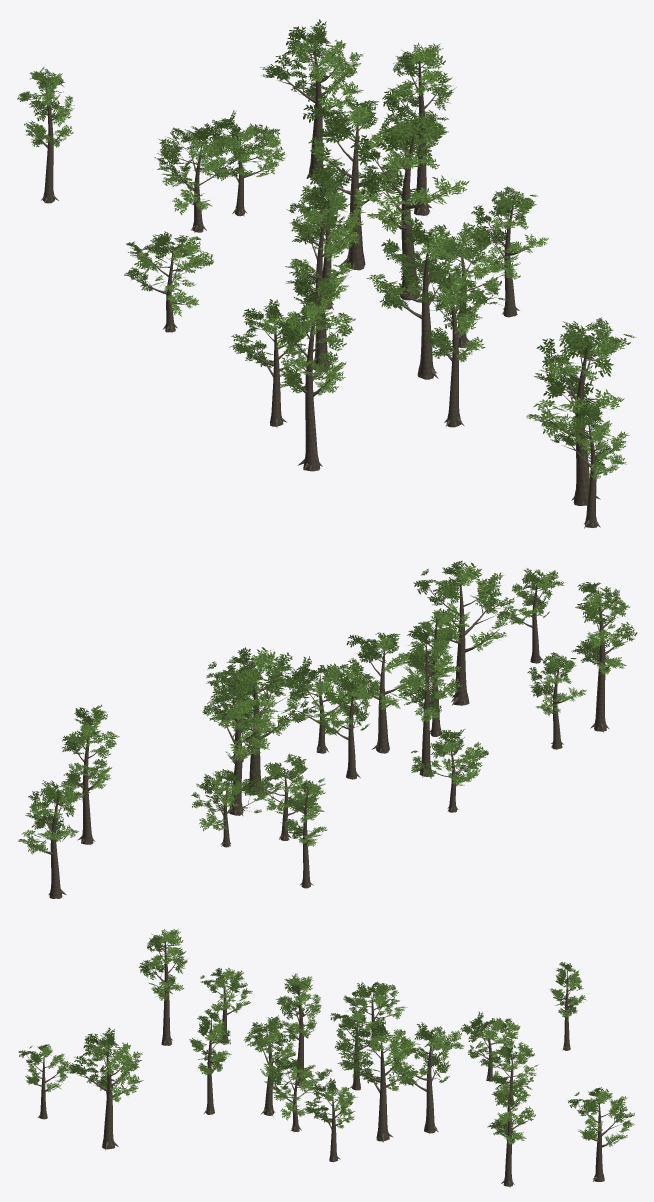
File: Canopy_14_14.glb
3 renders of one model, top to bottom at view 1: azimuth 30°, elevation 25°; view 2: azimuth 150°, elevation 25°; view 3: azimuth 270°, elevation 25°, orthographic. The views are drawn at different scales.
Visible parts, largest first — view 1: Canopy_14_14; view 2: Canopy_14_14; view 3: Canopy_14_14.
Part boxes in pixels (box(x1,y1,x2,y2)): Canopy_14_14: box(17, 19, 636, 528); Canopy_14_14: box(17, 560, 637, 898); Canopy_14_14: box(18, 929, 634, 1187).
Bounding box in the file's own units: 51.94 × 26.35 × 98.2.
2 materials, 2 textured.
